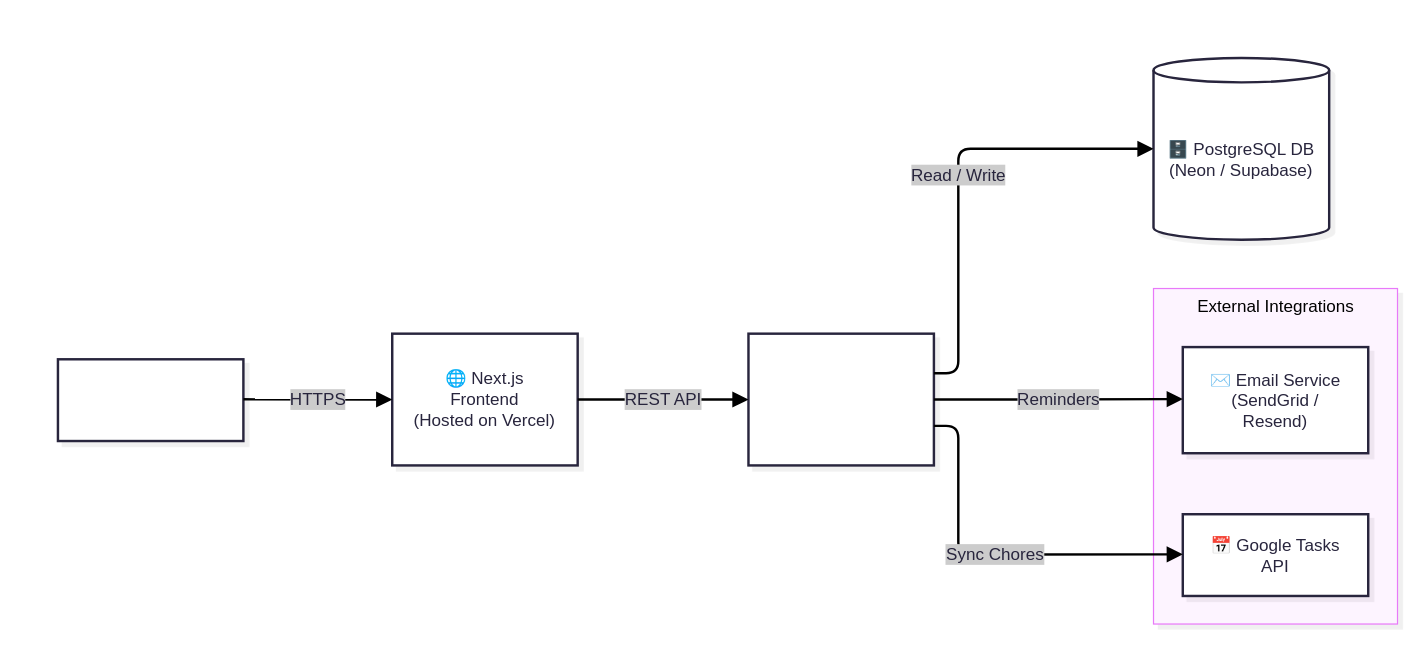
Image size: 1424x650. Some labels were removed from this diagram. Each missing label, with the centre of its shape:
"⚡ Java Spring Boot API (Hosted on Render)" belongs at point (843, 401).
"📱 User (Web/Mobile)" belongs at point (152, 402).
